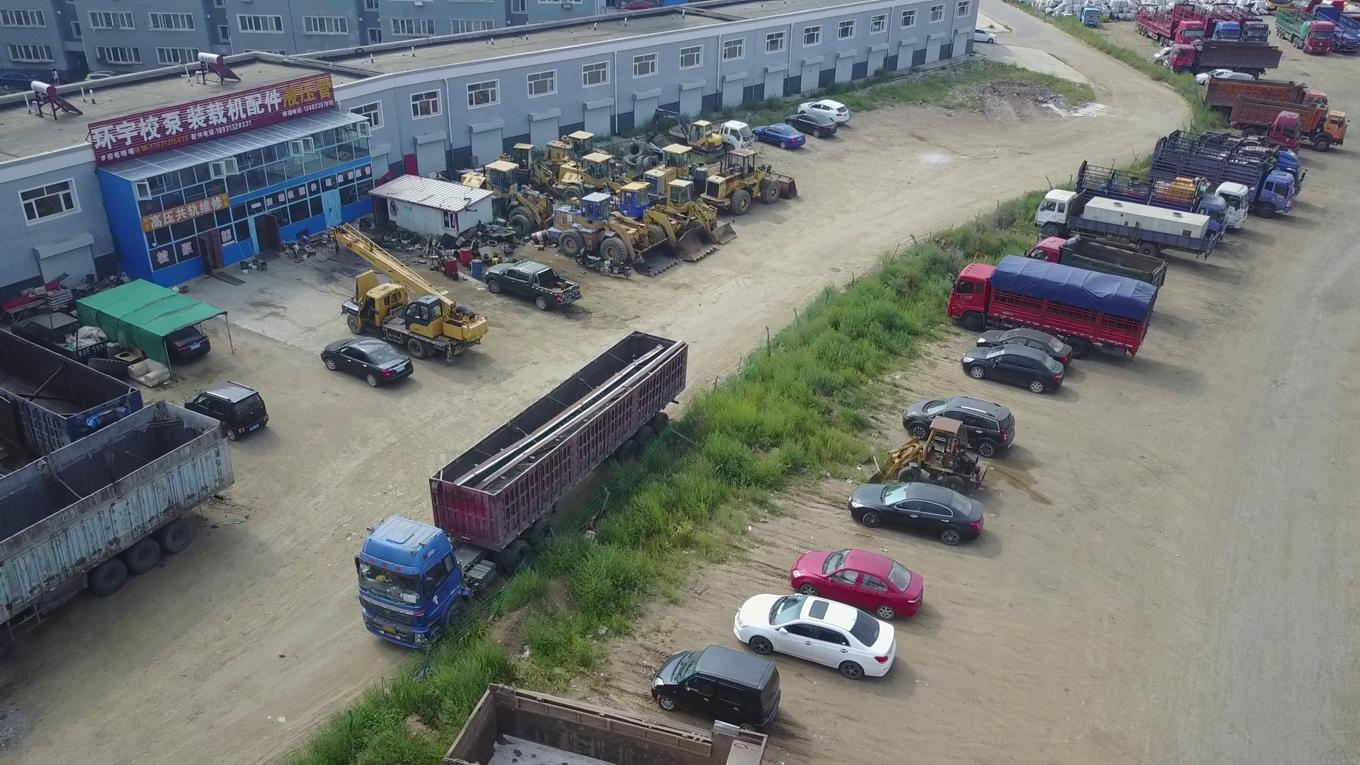car: (733, 592, 896, 678), (789, 548, 923, 619), (849, 483, 983, 545), (903, 395, 1015, 458), (184, 379, 269, 441), (961, 343, 1063, 392), (320, 336, 413, 388), (977, 328, 1073, 374), (136, 309, 210, 363), (750, 121, 805, 149), (797, 99, 850, 125), (785, 112, 837, 137), (81, 71, 132, 93), (1208, 72, 1257, 93), (0, 70, 43, 90), (1194, 67, 1237, 86), (1162, 55, 1202, 72), (958, 26, 998, 43), (619, 0, 657, 15)
motor: (603, 256, 631, 278), (574, 247, 601, 269)
pedestrian: (52, 65, 59, 91)
truck: (355, 330, 688, 651), (0, 400, 234, 653), (433, 679, 784, 765), (947, 252, 1158, 360), (1078, 157, 1249, 236), (1033, 188, 1221, 259), (1075, 171, 1229, 251), (1154, 135, 1308, 211), (1149, 147, 1294, 217), (1024, 234, 1168, 303), (1230, 90, 1351, 150), (1202, 74, 1332, 127), (8, 311, 107, 372), (1203, 111, 1301, 161), (486, 259, 582, 310), (1167, 40, 1282, 78), (1172, 1, 1240, 53), (1136, 4, 1205, 50), (1211, 1, 1271, 53), (669, 119, 755, 154), (1276, 8, 1335, 54), (1311, 4, 1360, 53), (1073, 5, 1102, 28)
van: (652, 646, 781, 739), (1155, 46, 1192, 65)
